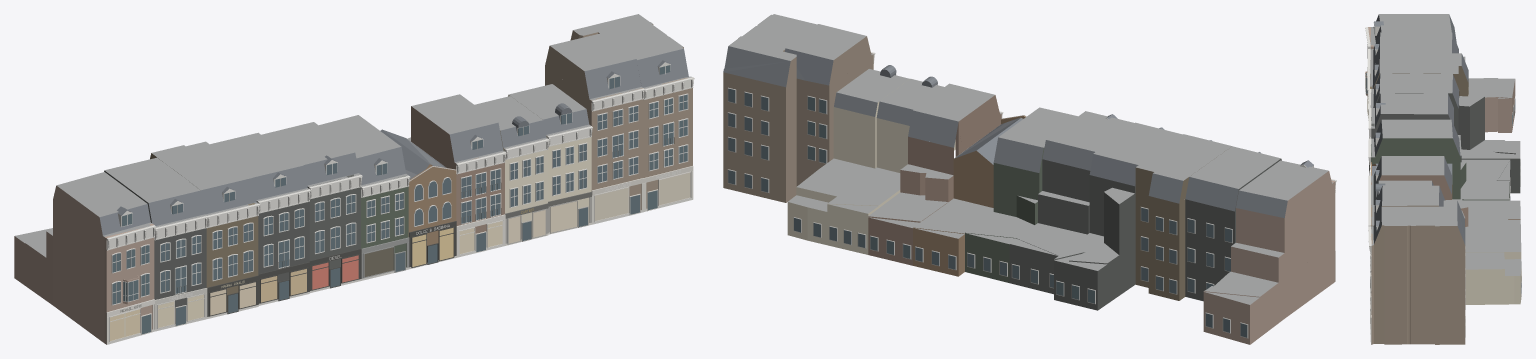
File: chunk-face-hooft-111-133.glb
The picture shows the model from 3 angles, left to right: view 1: azimuth 30°, elevation 25°; view 2: azimuth 150°, elevation 25°; view 3: azimuth 270°, elevation 25°; orthographic projection. The views are drawn at different scales.
Parts seen in each view (by area): view 1: face-hooft-111-133; view 2: face-hooft-111-133; view 3: face-hooft-111-133.
Part boxes in pixels (left/top/right/bottom): face-hooft-111-133: left=14, top=14, right=694, bottom=344; face-hooft-111-133: left=723, top=14, right=1336, bottom=344; face-hooft-111-133: left=1365, top=14, right=1521, bottom=344.
Size of the model in its own units: 81.24 by 19.49 by 23.16.
